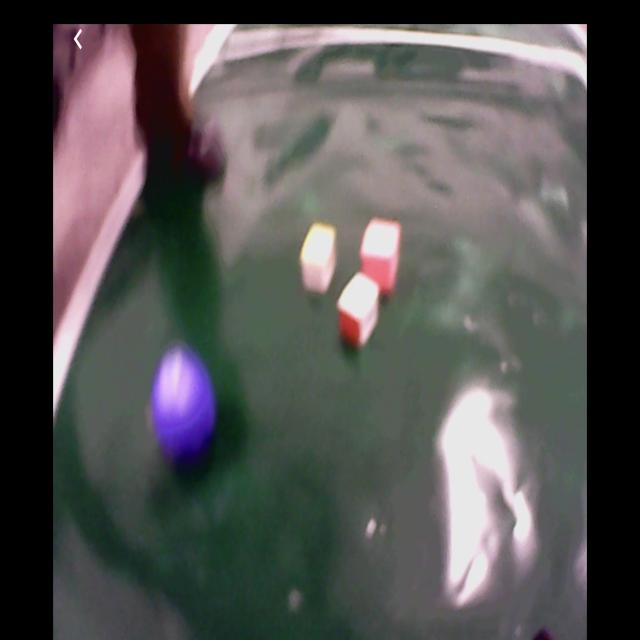ball: (150, 353, 218, 459)
